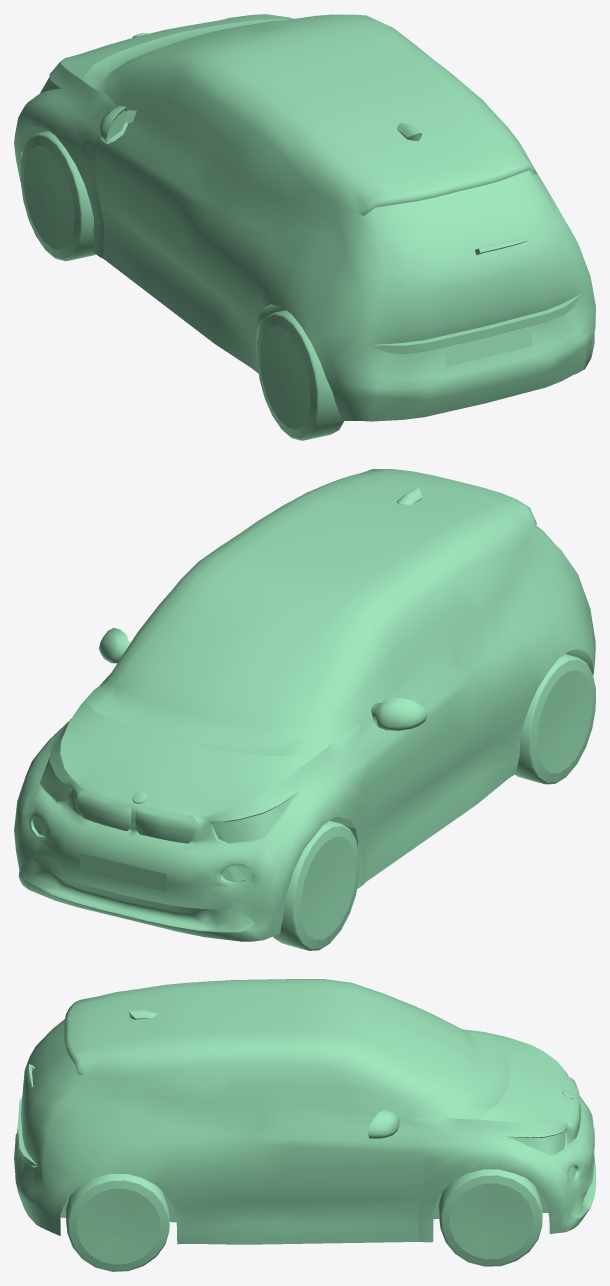
The model's file is bmw.obj.
The picture shows the model from 3 angles, top to bottom: view 1: azimuth 30°, elevation 25°; view 2: azimuth 150°, elevation 25°; view 3: azimuth 270°, elevation 25°; orthographic projection. The views are drawn at different scales.
Parts seen in each view (by area): view 1: BMW_i3; view 2: BMW_i3, Light_right, Light_left; view 3: BMW_i3, Light_left.
Boxes of the visible parts, x1,y1,x2,y2 form: BMW_i3: (14, 14, 595, 440); BMW_i3: (14, 469, 595, 950); Light_right: (212, 795, 294, 843); Light_left: (40, 755, 71, 801); BMW_i3: (14, 979, 595, 1271); Light_left: (510, 1130, 565, 1155).
Size of the model in its own units: 78.4 by 62.32 by 155.
